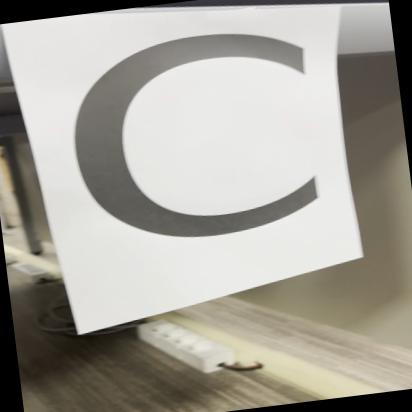seat: (40, 0, 360, 300)
